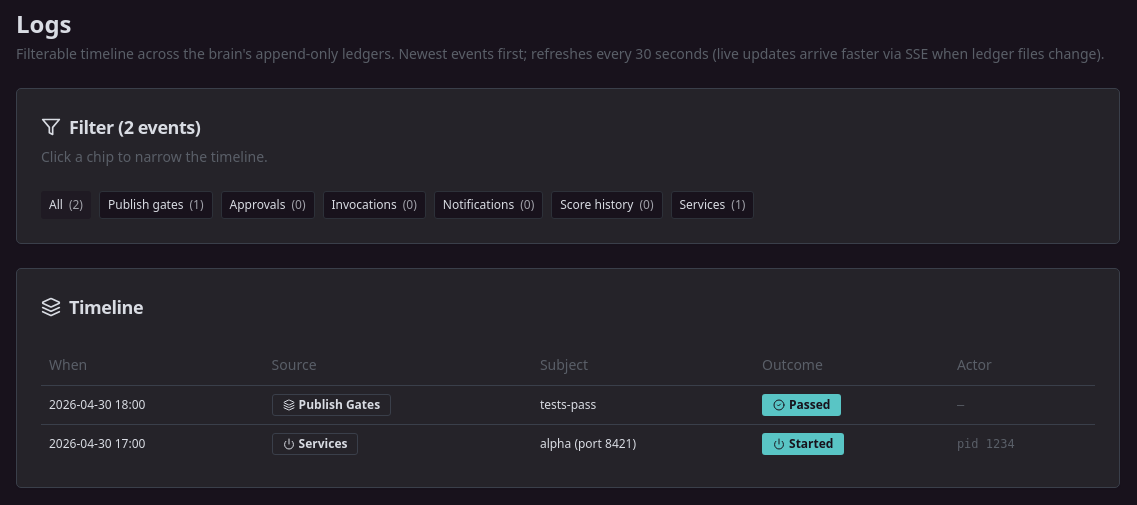
Test case: LogsPage › services filter chip narrows the timeline to lifecycle events
Expected: the table with test id "logs-timeline" is shown, [41,345,1095,462]
Expected: the text "tests-pass" is shown, [532,385,754,424]
Note: Click the services chip → only service events remain.
Click the button with test id "filter-services": (712, 205) [670,191,754,219]
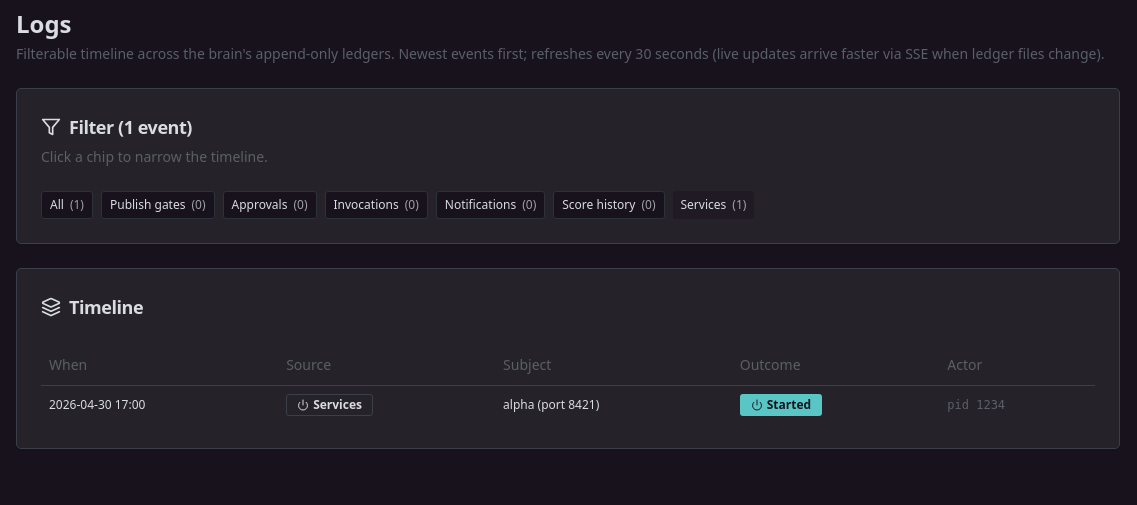
Expected: the text "alpha (port 8421)" is shown, [495,385,732,424]
Expected: the button "tests-pass" is gone
